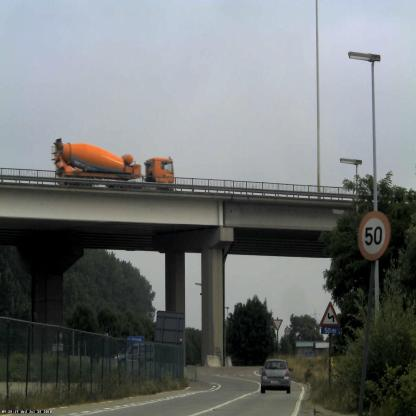other: (49, 121, 187, 187)
